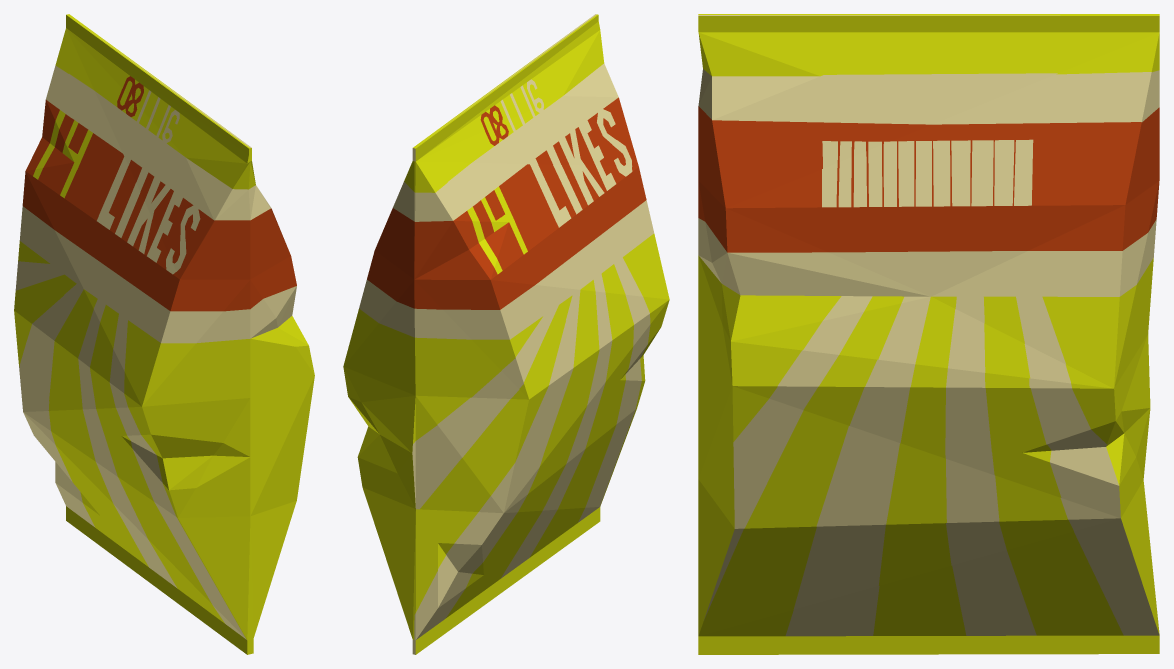
File: Chickencrisps.glb
The picture shows the model from 3 angles, left to right: view 1: azimuth 30°, elevation 25°; view 2: azimuth 150°, elevation 25°; view 3: azimuth 270°, elevation 25°; orthographic projection. The views are drawn at different scales.
Visible parts, largest first — view 1: group478861069; view 2: group478861069; view 3: group478861069.
Part boxes in pixels (<box>): group478861069: <box>14,14,314,654</box>; group478861069: <box>343,14,669,654</box>; group478861069: <box>698,14,1159,654</box>.
Size of the model in its own units: 0.8384 by 2.26 by 1.48.
